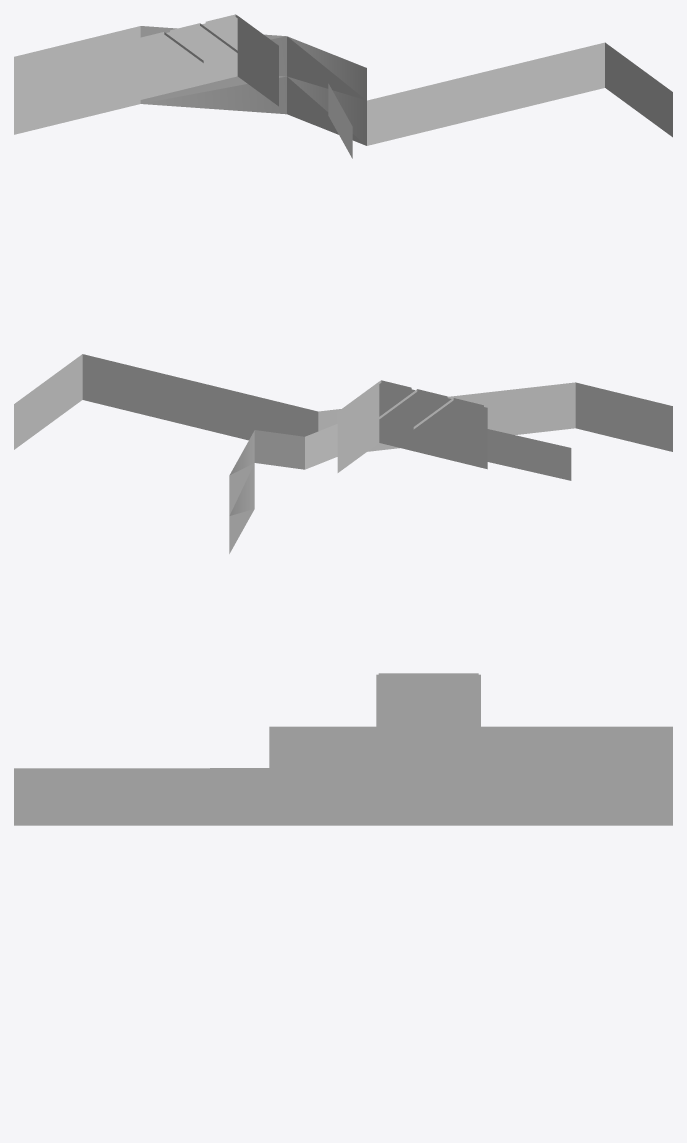
File: WandDach-transformed.glb
The picture shows the model from 3 angles, top to bottom: view 1: azimuth 30°, elevation 25°; view 2: azimuth 150°, elevation 25°; view 3: azimuth 270°, elevation 25°; orthographic projection. The views are drawn at different scales.
Visible parts, largest first — view 1: Dach_Wand1.001; view 2: Dach_Wand1.001; view 3: Dach_Wand1.001.
Part boxes in pixels (left/top/right/bottom): Dach_Wand1.001: left=14, top=14, right=672, bottom=158; Dach_Wand1.001: left=14, top=354, right=672, bottom=553; Dach_Wand1.001: left=14, top=673, right=672, bottom=825.
Bounding box in the file's own units: 53.85 × 14.81 × 49.46.
Materials: 1 (1 with a texture image).
